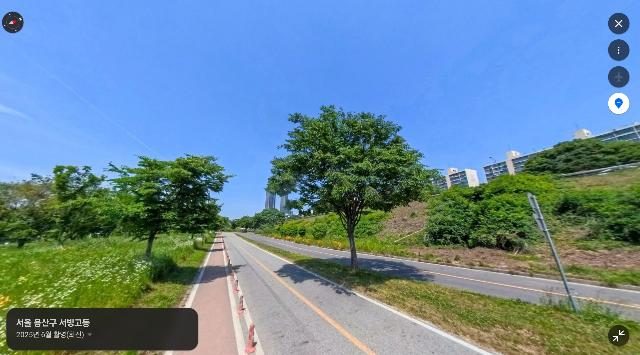other: (265, 105, 442, 273), (100, 153, 237, 261), (46, 164, 109, 248), (0, 172, 53, 249), (252, 207, 287, 235), (234, 216, 252, 233), (215, 215, 229, 234)
